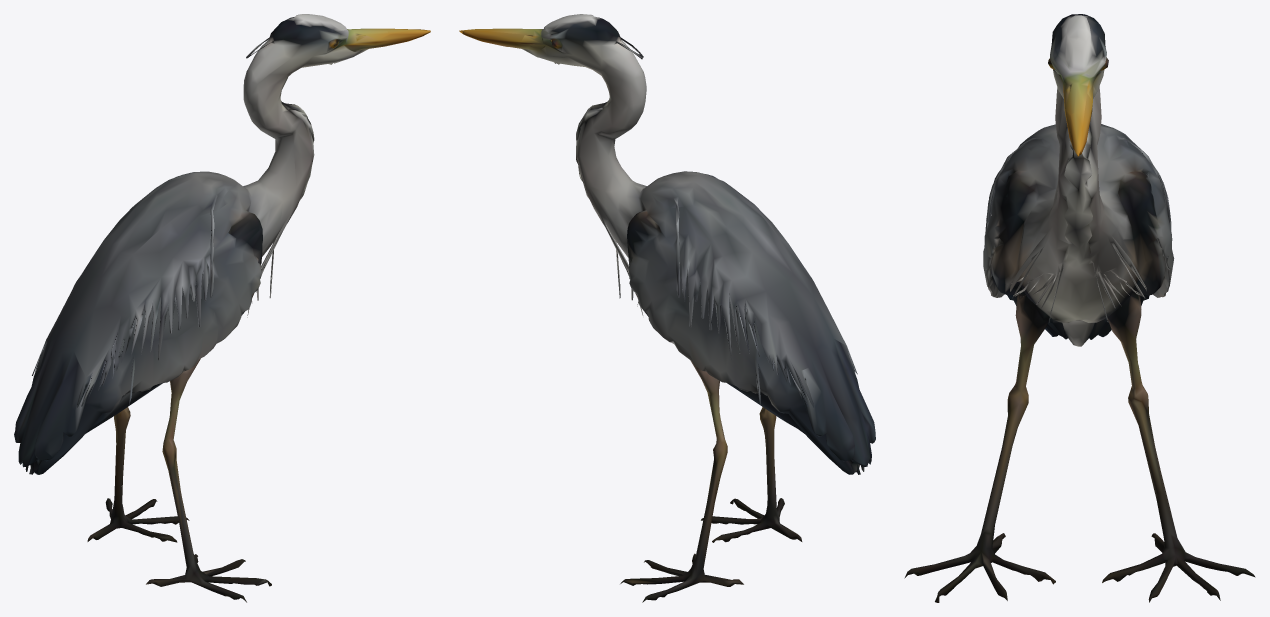
The model's file is garza.glb.
The picture shows the model from 3 angles, left to right: view 1: azimuth 30°, elevation 25°; view 2: azimuth 150°, elevation 25°; view 3: azimuth 270°, elevation 25°; orthographic projection. The views are drawn at different scales.
Visible parts, largest first — view 1: fauna/garza.glb; view 2: fauna/garza.glb; view 3: fauna/garza.glb.
Boxes of the visible parts, x1,y1,x2,y2 form: fauna/garza.glb: (14,14,430,602); fauna/garza.glb: (459,14,875,602); fauna/garza.glb: (904,14,1255,602).
Size of the model in its own units: 0.9996 by 1.18 by 0.5895.
